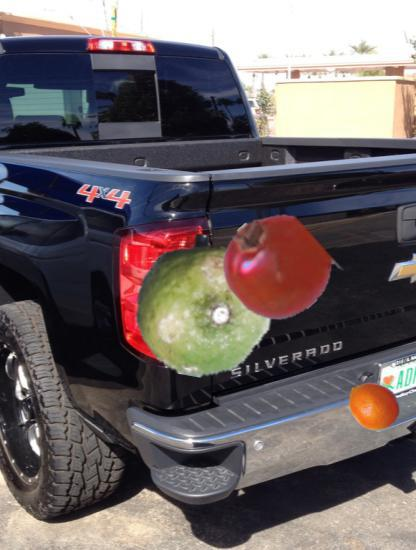Limes: (134, 236, 276, 378)
Redcurrant: (223, 214, 329, 320)
Tangelo: (346, 378, 401, 433)
